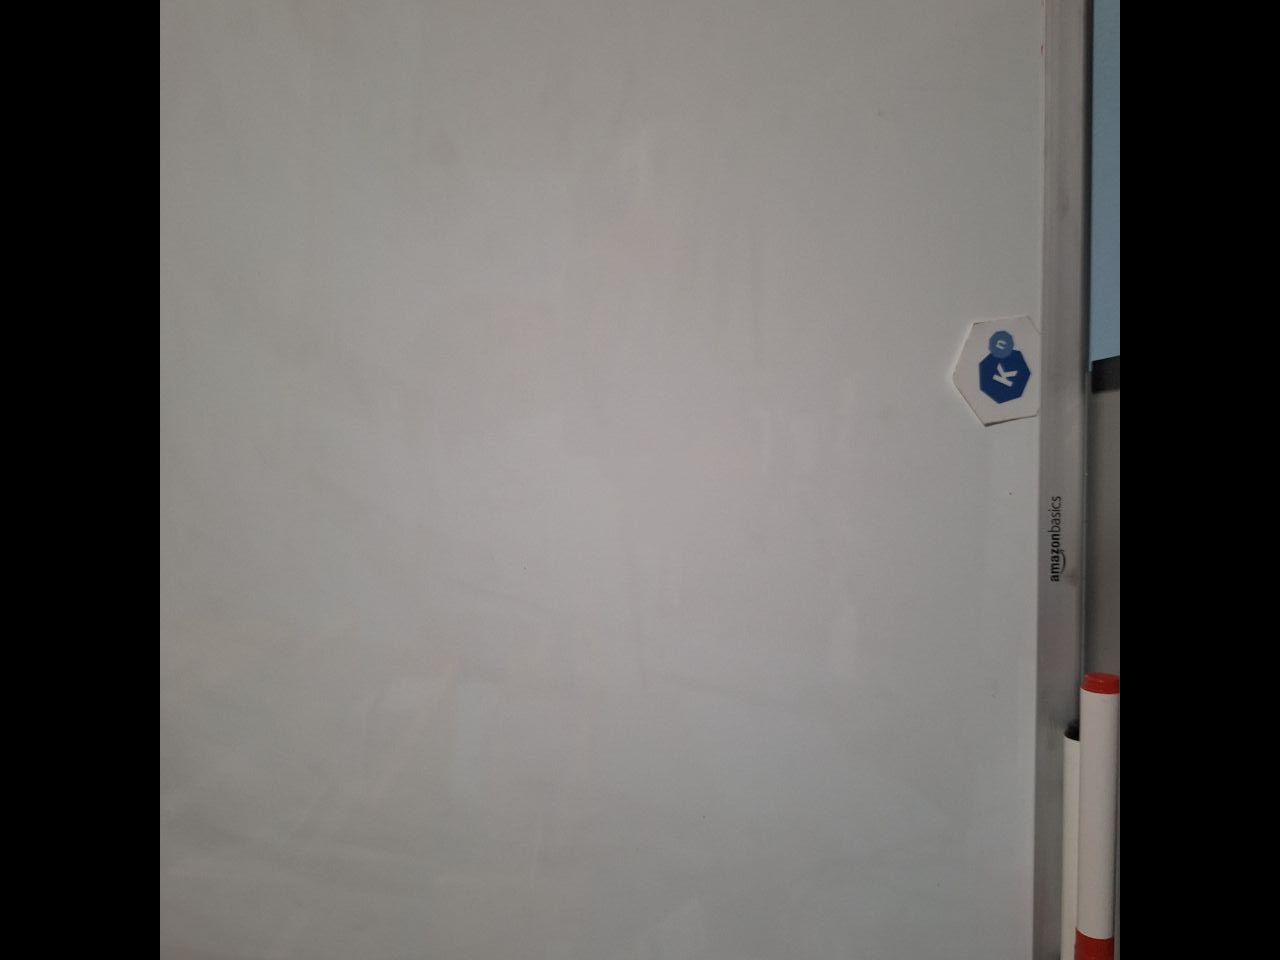knative: (978, 327, 1032, 407)
